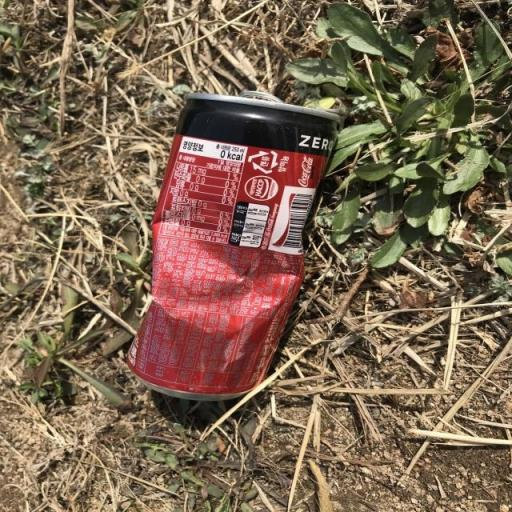metal: (89, 75, 369, 457)
